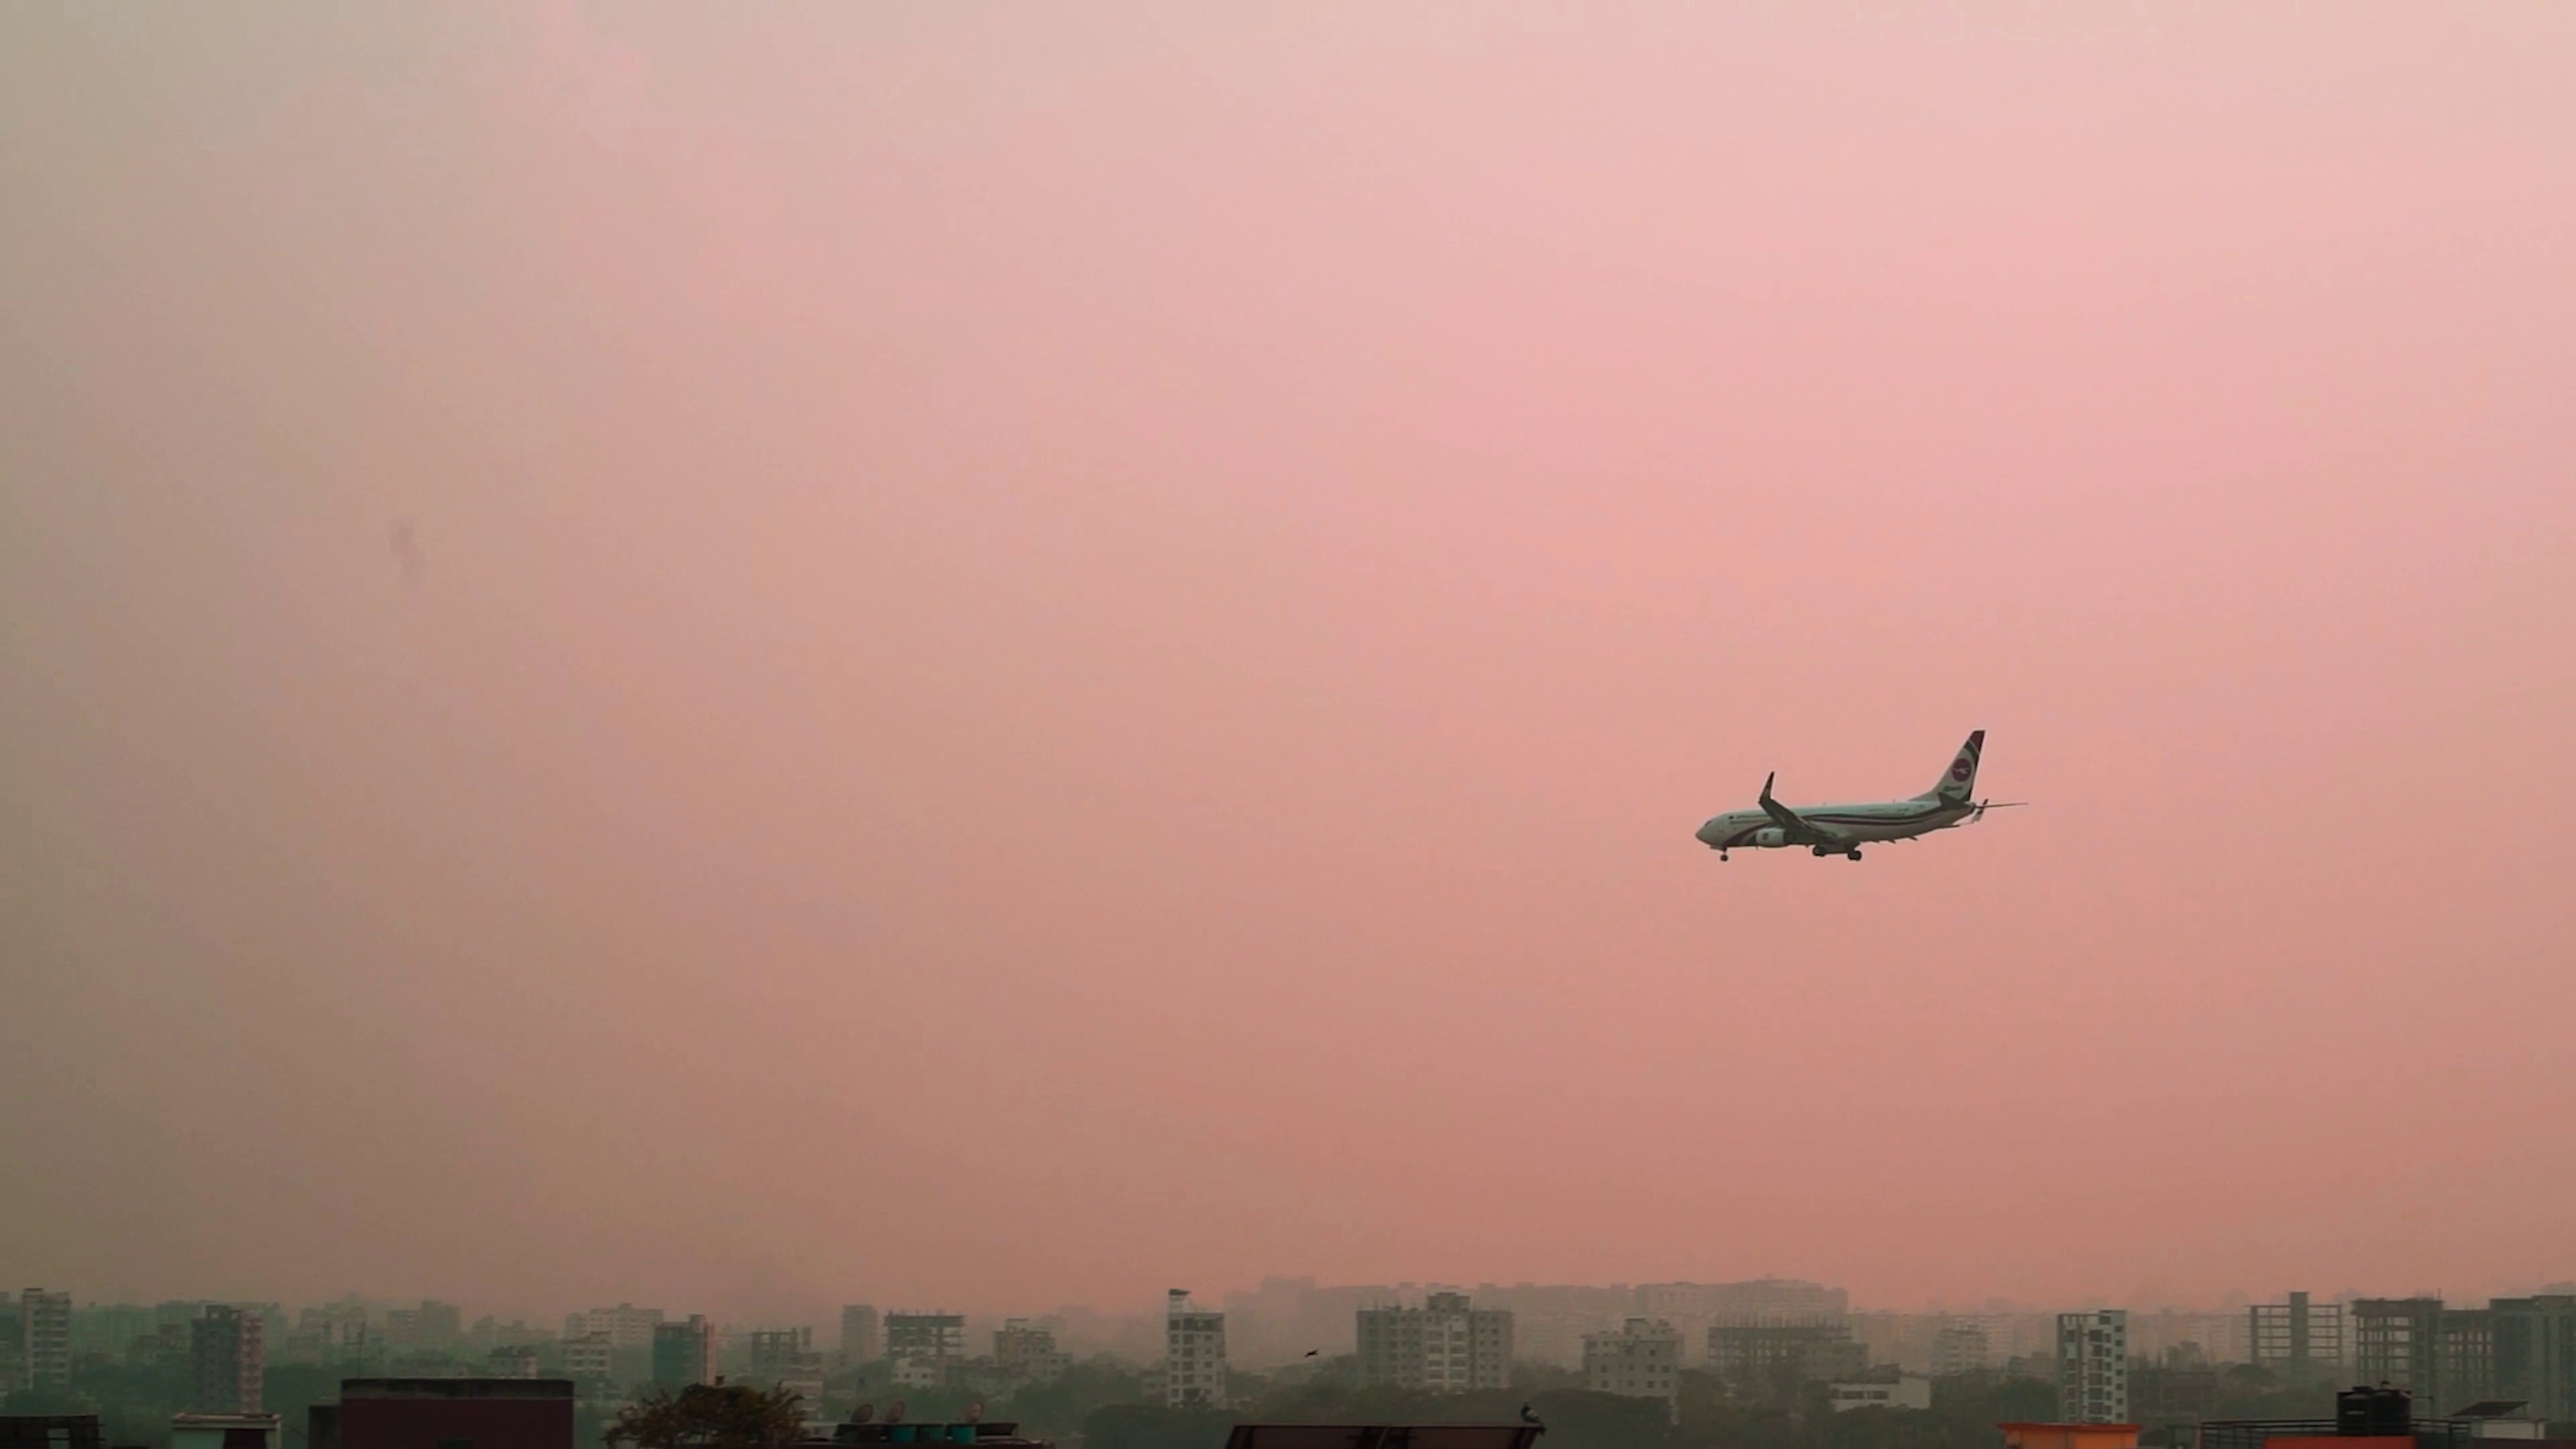plane: (1693, 729, 2026, 863)
